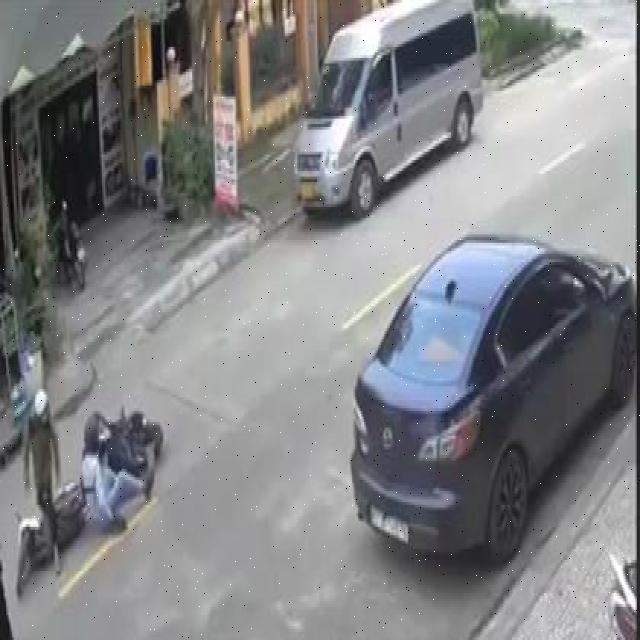accident: (11, 374, 168, 605)
